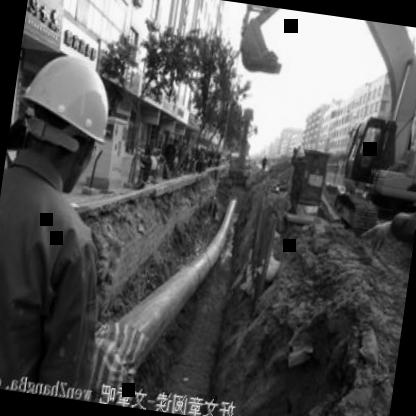helmet: (5, 31, 129, 194)
